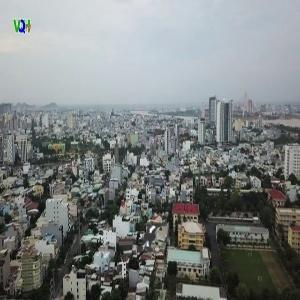drone: (99, 188, 202, 291)
